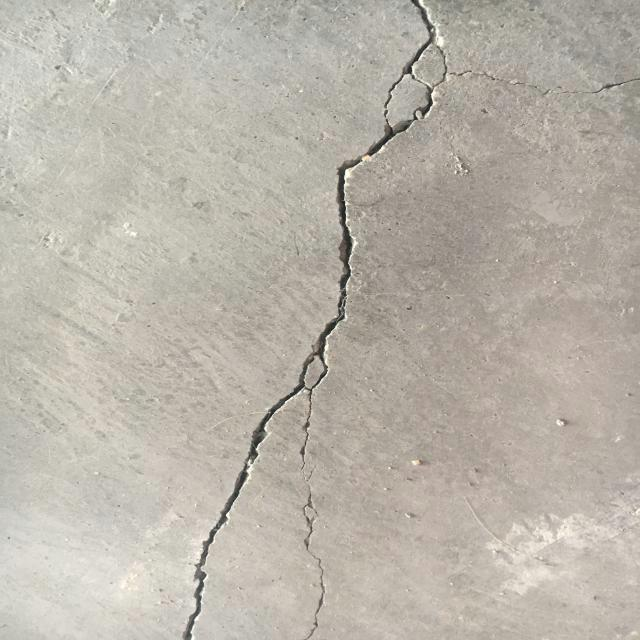SurfaceCrack: (145, 0, 553, 639)
